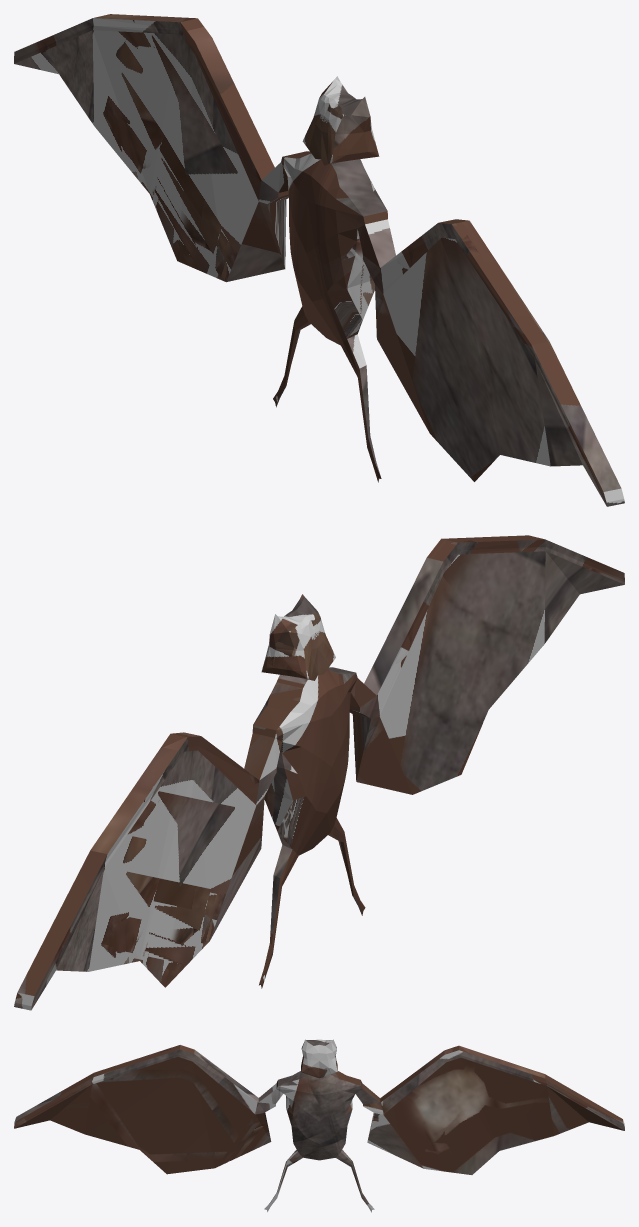
Rendered from Enemigo130.obj.
3 renders of one model, top to bottom at view 1: azimuth 30°, elevation 25°; view 2: azimuth 150°, elevation 25°; view 3: azimuth 270°, elevation 25°, orthographic. The views are drawn at different scales.
Parts seen in each view (by area): view 1: Plano; view 2: Plano; view 3: Plano.
Boxes of the visible parts, bbox=[...] form: Plano: bbox=[14, 14, 624, 506]; Plano: bbox=[14, 535, 624, 1010]; Plano: bbox=[14, 1039, 624, 1212].
Bounding box in the file's own units: 0.1339 × 0.7578 × 2.34.
1 material, 1 textured.
